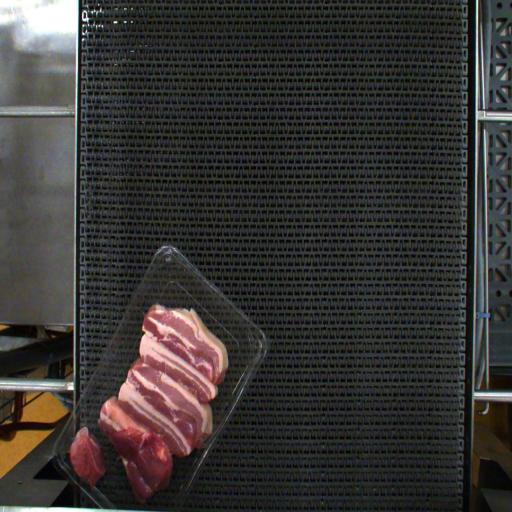loose-meat: (64, 424, 106, 489)
